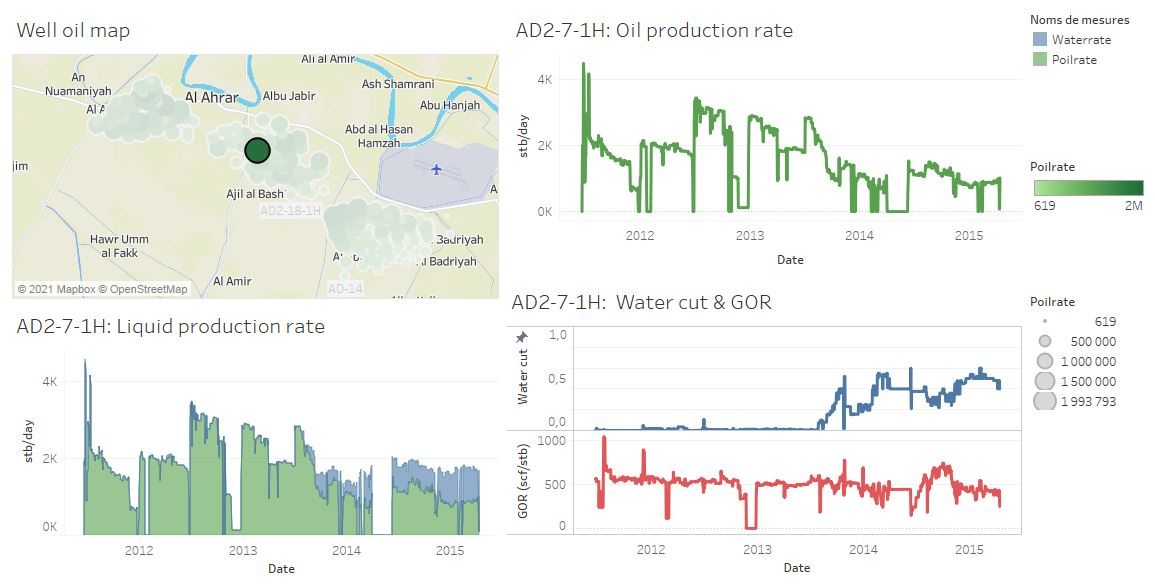

This screenshot's page, from the dashboard's own definition file:
{"tool":"tableau","page":{"name":"Tableau de bord 1","canvas":[1160,590],"ordinal":0},"visuals":[{"type":"worksheet","box":[0,0,1160,590]},{"type":"worksheet","param":"horz","box":[8,8,495,295.7]},{"type":"worksheet","box":[8,8,495,295.7]},{"type":"worksheet","title":"Well oil map","mark":"Automatic","rows":["Latitude"],"cols":["Longitude"],"box":[8,8,495,295.7]},{"type":"worksheet","title":"Oil production rate","mark":"Automatic","rows":["POILRATE"],"cols":["DATE"],"box":[503,8,523,272.3]},{"type":"worksheet","param":"vert","box":[1026,8,126,574]},{"type":"worksheet","title":"Liquid production","mark":"Area","cols":["DATE"],"param":"[federated.0lyva8b0q2d5pp10ioo5q1k3feg0].[:Measure Names]","box":[1026,8,126,147]},{"type":"worksheet","title":"Well oil map","mark":"Automatic","rows":["Latitude"],"cols":["Longitude"],"param":"[federated.0lyva8b0q2d5pp10ioo5q1k3feg0].[sum:POILRATE:qk]","box":[1026,155,126,135]},{"type":"worksheet","title":"Water cut & GOR","mark":"Automatic","rows":["Calculation_978970018575171591","Calculation_978970018575560713"],"cols":["DATE"],"box":[503,280.3,523,301.7]},{"type":"worksheet","title":"Well oil map","mark":"Automatic","rows":["Latitude"],"cols":["Longitude"],"param":"[federated.0lyva8b0q2d5pp10ioo5q1k3feg0].[sum:POILRATE:qk]","box":[1026,290,126,292]},{"type":"worksheet","title":"Liquid production","mark":"Area","cols":["DATE"],"box":[8,303.7,495,278.2]}]}

Visuals, with their boxes in screenshot pixels (x1, y1, x2, y2), scaled from the page's 1160x590 canvas onto the 1155x584 screenshot:
worksheet: [left=0, top=0, right=1154, bottom=583]
worksheet: [left=8, top=8, right=501, bottom=301]
worksheet: [left=8, top=8, right=501, bottom=301]
"Well oil map" worksheet: [left=8, top=8, right=501, bottom=301]
"Oil production rate" worksheet: [left=501, top=8, right=1022, bottom=277]
worksheet: [left=1022, top=8, right=1147, bottom=576]
"Liquid production" worksheet (Area marks): [left=1022, top=8, right=1147, bottom=153]
"Well oil map" worksheet: [left=1022, top=153, right=1147, bottom=287]
"Water cut & GOR" worksheet: [left=501, top=277, right=1022, bottom=576]
"Well oil map" worksheet: [left=1022, top=287, right=1147, bottom=576]
"Liquid production" worksheet (Area marks): [left=8, top=301, right=501, bottom=576]
